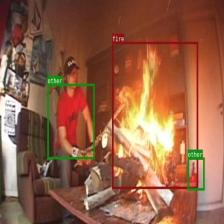fire: (112, 41, 198, 189)
